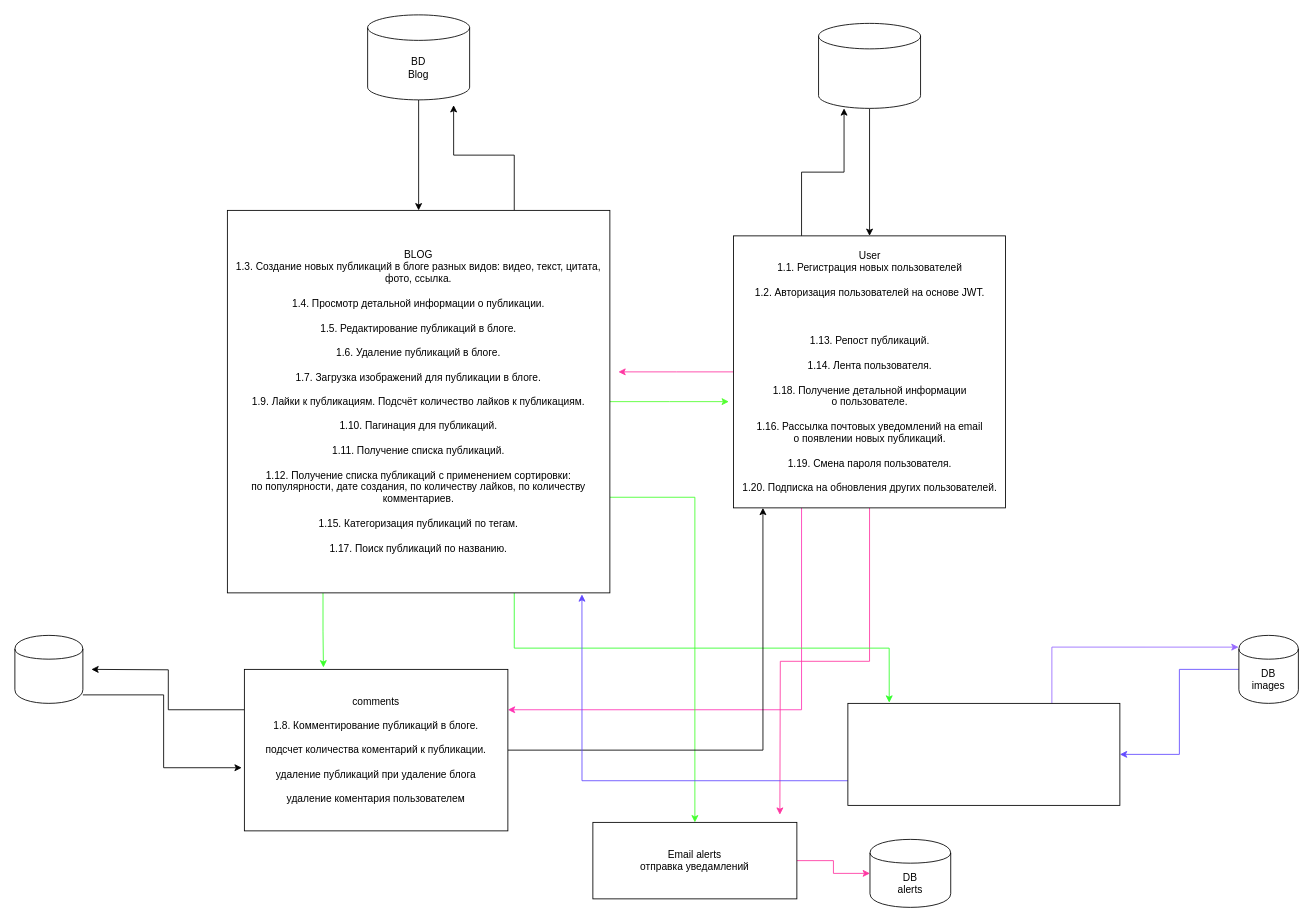
This 1313x922 diagram has some shape labels left out. The centre of each missing label's shape, as x and y in pixels:
"BD User" belongs at (x=869, y=65).
"DB comments" belongs at (x=48, y=669).
"image and Video" belongs at (x=983, y=754).
